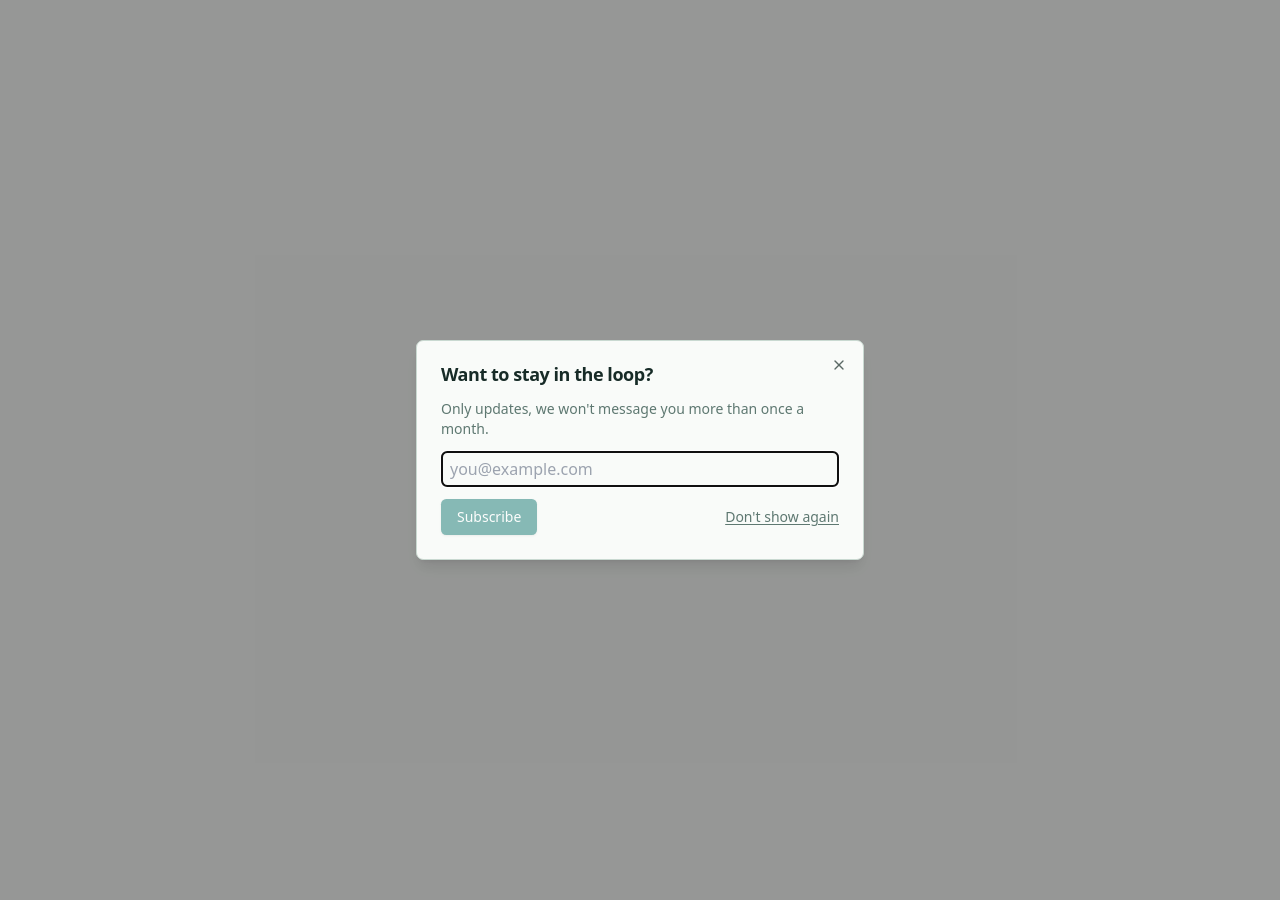
it: NewsletterDialog › subscribes, shows the confirm message, marks the flag without closing, and captures anonymously
Type "rigger@example.com" into the field at (640, 469), box [441, 451, 839, 487]
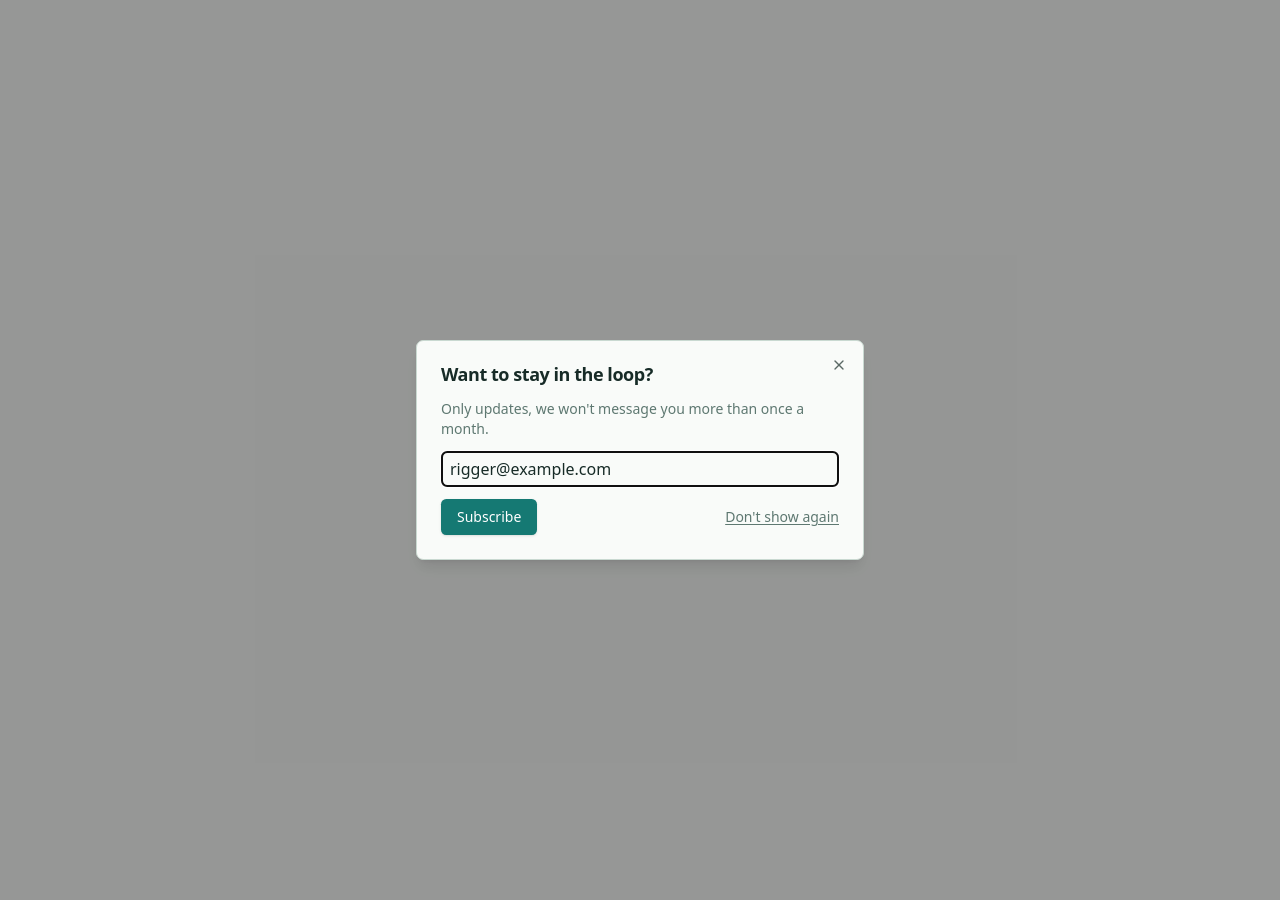
Click the button "Subscribe" at (489, 517), box [441, 499, 537, 535]
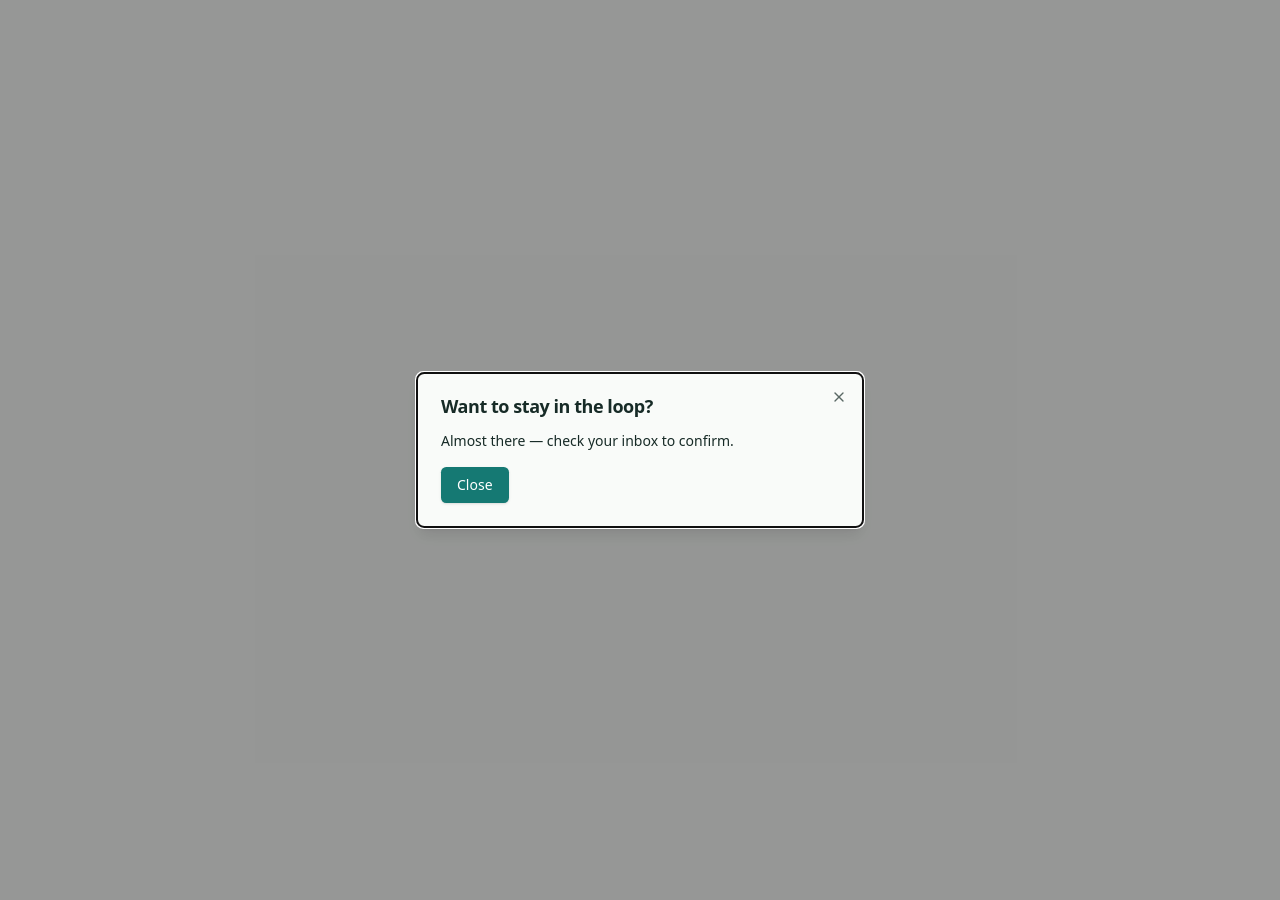
Expected: the text "Almost there — check your inbox to confirm." is shown, [441, 431, 734, 450]
